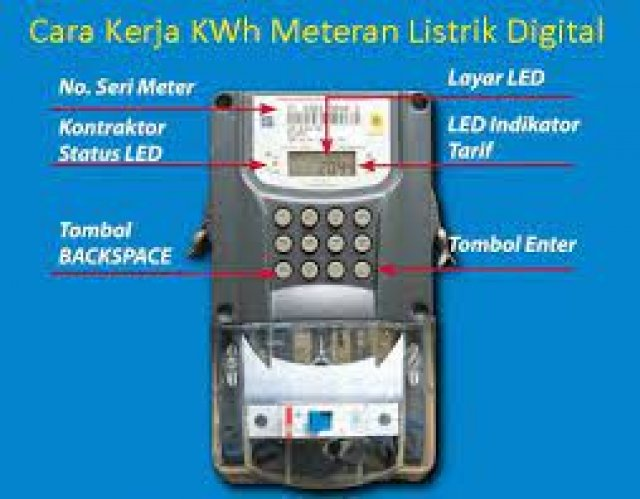box: (288, 153, 355, 177)
